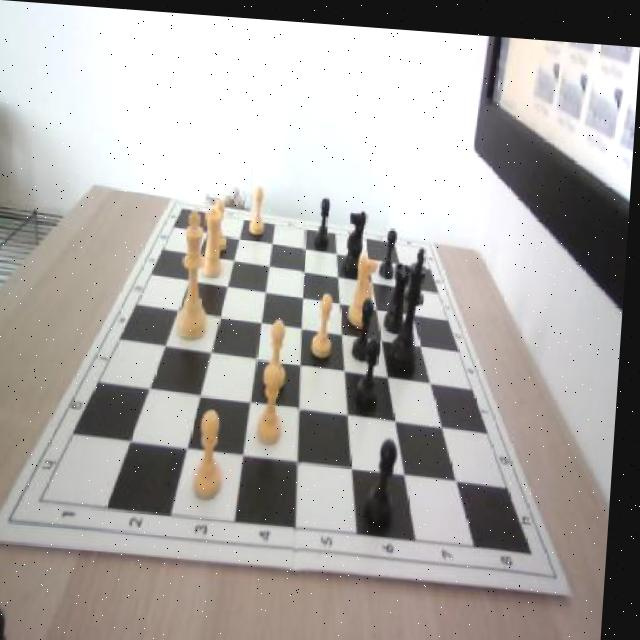black-bishop: (395, 240, 433, 364)
black-king: (345, 201, 370, 274)
black-knight: (372, 431, 406, 522), (359, 332, 386, 402), (356, 290, 381, 358), (317, 190, 336, 245), (382, 222, 400, 275)
black-queen: (389, 252, 419, 329)
white-bishop: (177, 205, 217, 337)
white-king: (352, 248, 383, 322)
white-knight: (196, 405, 233, 497), (259, 357, 295, 443), (267, 315, 294, 384), (316, 285, 341, 353), (250, 183, 271, 233), (213, 196, 233, 247)
white-queen: (203, 204, 230, 275)
